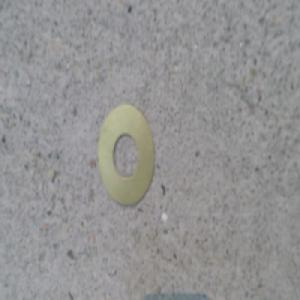Washer: (97, 103, 155, 207)
